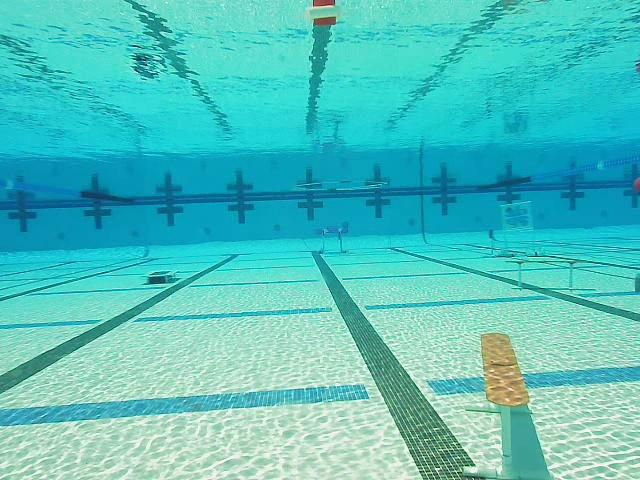table: (315, 224, 351, 255)
